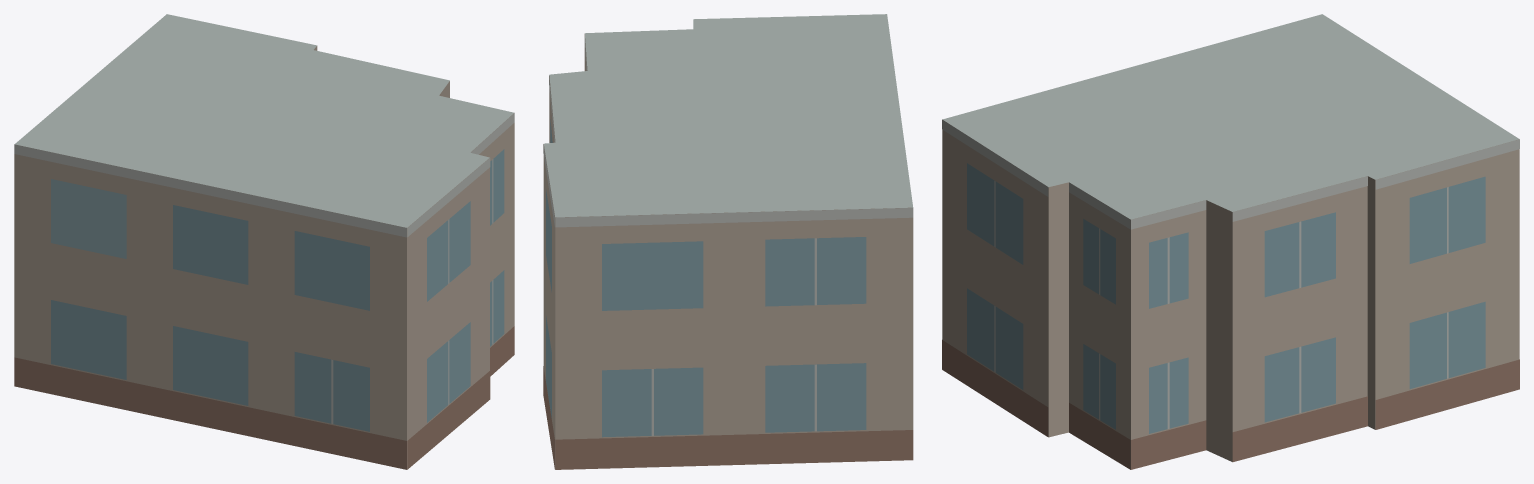
The model's file is survey-upis-32655144.glb.
The picture shows the model from 3 angles, left to right: view 1: azimuth 30°, elevation 25°; view 2: azimuth 150°, elevation 25°; view 3: azimuth 270°, elevation 25°; orthographic projection. The views are drawn at different scales.
Parts seen in each view (by area): view 1: survey-upis-32655144.tmp; view 2: survey-upis-32655144.tmp; view 3: survey-upis-32655144.tmp.
Part boxes in pixels (left/top/right/bottom): survey-upis-32655144.tmp: left=14, top=14, right=514, bottom=469; survey-upis-32655144.tmp: left=543, top=14, right=913, bottom=469; survey-upis-32655144.tmp: left=942, top=14, right=1519, bottom=469.
Bounding box in the file's own units: 10.76 × 6.1 × 12.77.
